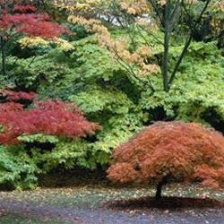neutral: (2, 2, 224, 219)
